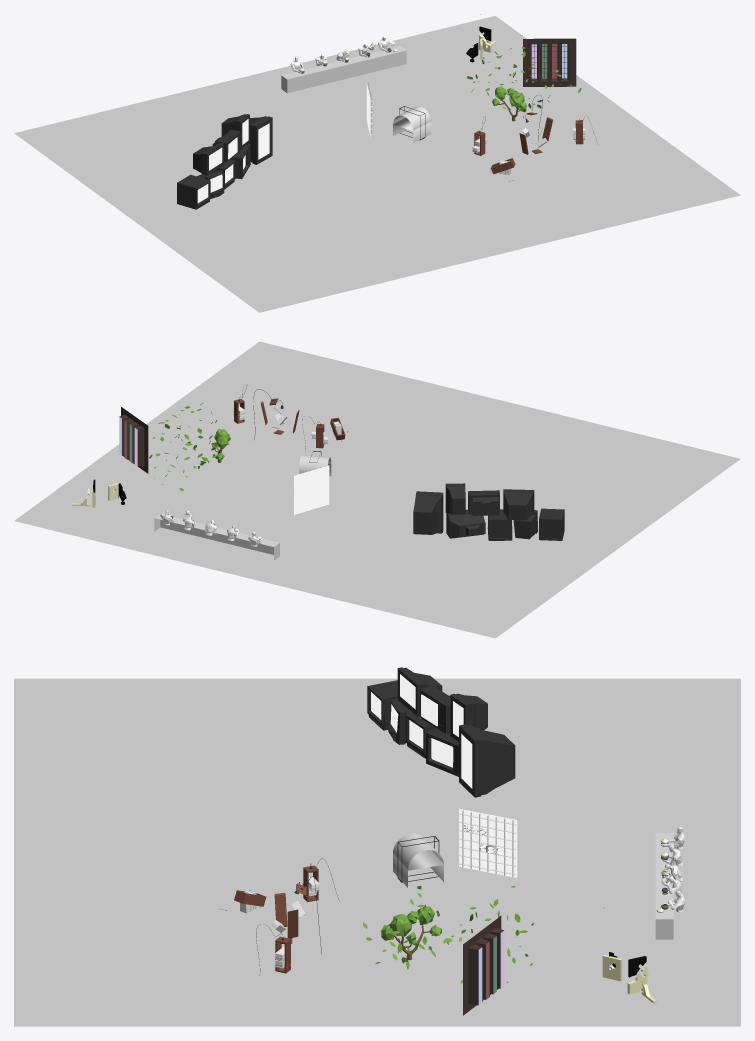
File: stage-test-04.glb
3 views of the same model, one above another, from view 1: azimuth 30°, elevation 25°; view 2: azimuth 150°, elevation 25°; view 3: azimuth 270°, elevation 25° (orthographic). The views are drawn at different scales.
Parts seen in each view (by area): view 1: test-ground-ver2.001, comforting-dinner-baked-table.002, scenery-window-wall.001, paper-typo.001, analog-tv-02-modified-horizontal-02, analog-tv-03-modified-vertical-big, comforting-dinner-baked-johns.002, analog-tv-03-modified-horizontal; view 2: test-ground-ver2.001, back-lighting, comforting-dinner-baked-table.002, analog-tv-03-modified-vertical-big, scenery-window-wall.001, analog-tv-03-modified-horizontal, analog-tv-04-modified-horizontal, analog-tv-02-modified-horizontal-02, analog-tv-05-modified-horizontal, comforting-dinner-baked-johns.002, analog-tv-03-modified-vertical-small, analog-tv-02-modified-horizontal-01 (+2 smaller); view 3: test-ground-ver2.001, analog-tv-03-modified-vertical-big, back-lighting, scenery-window-wall.001, paper-typo.001, comforting-dinner-baked-table.002, grid, comforting-dinner-baked-johns.002, tree-leaves-low-poly.006, analog-tv-03-modified-vertical-small, analog-tv-02-modified-horizontal-02, float-particles.006 (+4 smaller).
Part boxes in pixels (box(x1,y1,x2,y2)): test-ground-ver2.001: box(14, 16, 740, 312); comforting-dinner-baked-table.002: box(281, 46, 406, 93); scenery-window-wall.001: box(523, 38, 576, 86); paper-typo.001: box(393, 106, 431, 142); analog-tv-02-modified-horizontal-02: box(177, 174, 210, 209); analog-tv-03-modified-vertical-big: box(248, 116, 272, 164); comforting-dinner-baked-johns.002: box(290, 36, 394, 73); analog-tv-03-modified-horizontal: box(193, 143, 224, 175); test-ground-ver2.001: box(14, 341, 740, 638); back-lighting: box(294, 465, 329, 514); comforting-dinner-baked-table.002: box(154, 513, 279, 560); analog-tv-03-modified-vertical-big: box(413, 491, 443, 534); scenery-window-wall.001: box(119, 407, 148, 473); analog-tv-03-modified-horizontal: box(503, 489, 534, 520); analog-tv-04-modified-horizontal: box(446, 509, 485, 538); analog-tv-02-modified-horizontal-02: box(539, 508, 564, 540); analog-tv-05-modified-horizontal: box(468, 490, 499, 515); comforting-dinner-baked-johns.002: box(160, 510, 262, 546); analog-tv-03-modified-vertical-small: box(445, 483, 465, 514); analog-tv-02-modified-horizontal-01: box(487, 509, 512, 540); test-ground-ver2.001: box(14, 678, 740, 1026); analog-tv-03-modified-vertical-big: box(459, 724, 515, 797); back-lighting: box(459, 808, 517, 877); scenery-window-wall.001: box(463, 916, 503, 1015); paper-typo.001: box(393, 833, 443, 887); comforting-dinner-baked-table.002: box(655, 833, 673, 939); grid: box(458, 810, 516, 877); comforting-dinner-baked-johns.002: box(660, 827, 685, 912); tree-leaves-low-poly.006: box(380, 906, 441, 945); analog-tv-03-modified-vertical-small: box(450, 693, 487, 741); analog-tv-02-modified-horizontal-02: box(367, 680, 397, 730); float-particles.006: box(363, 886, 604, 983).
Bounding box in the file's own units: 360 × 46.02 × 318.
